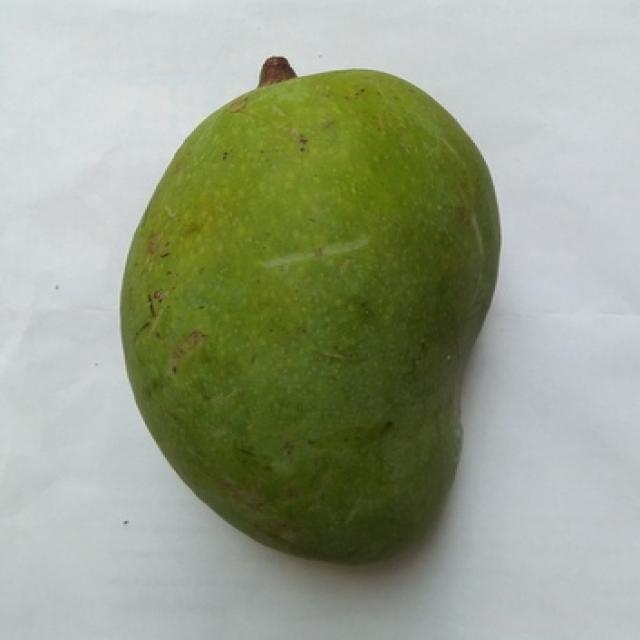Mango: (121, 68, 499, 560)
